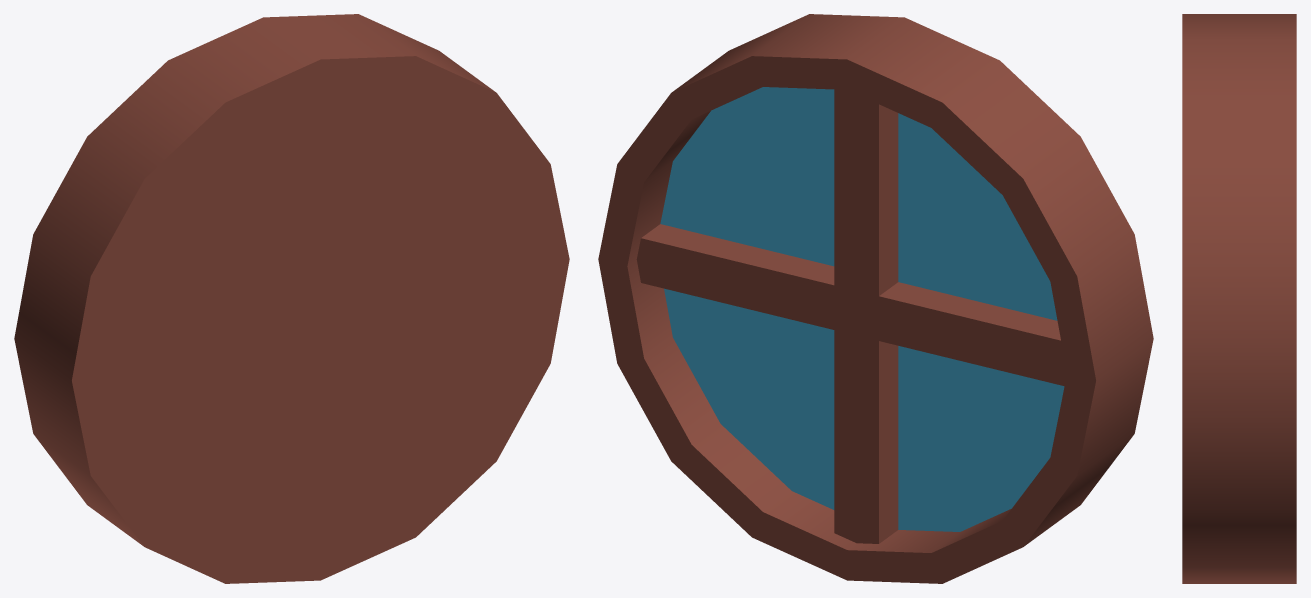
The model's file is window_round.fbx.
3 views of the same model, side by side, from view 1: azimuth 30°, elevation 25°; view 2: azimuth 150°, elevation 25°; view 3: azimuth 270°, elevation 25° (orthographic).
Visible parts, largest first — view 1: window_round; view 2: window_round; view 3: window_round.
Part boxes in pixels (x1=…): window_round: x1=14, y1=14, x2=569, y2=583; window_round: x1=598, y1=14, x2=1153, y2=583; window_round: x1=1182, y1=14, x2=1296, y2=583.
Bounding box in the file's own units: 200 × 200 × 40.
